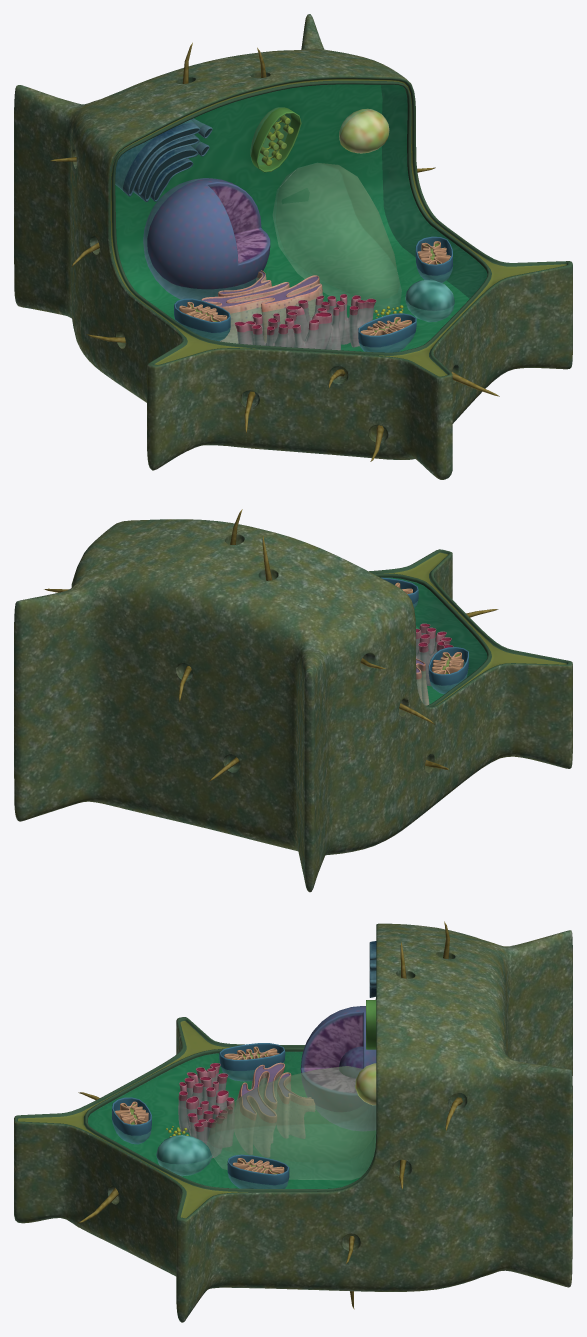
File: plant-cell.glb
3 views of the same model, one above another, from view 1: azimuth 30°, elevation 25°; view 2: azimuth 150°, elevation 25°; view 3: azimuth 270°, elevation 25° (orthographic).
Parts seen in each view (by area): view 1: cell, cytoplasm, vacuole, nucleus, mitochondria, smooth.ER, golgi.appratus, rough.ER, peroxisome, chloroplast.out, lysosome, plasmodesma (+1 smaller); view 2: cell, cytoplasm, mitochondria, plasmodesma, smooth.ER; view 3: cell, cytoplasm, vacuole, nucleus, mitochondria, rough.ER, smooth.ER, lysosome, plasmodesma, peroxisome, chloroplast.out.
Boxes of the visible parts, <box> form: cell: <box>14,14,572,479</box>; cytoplasm: <box>115,84,487,352</box>; vacuole: <box>273,163,401,313</box>; nucleus: <box>143,178,270,300</box>; mitochondria: <box>174,236,452,352</box>; smooth.ER: <box>234,294,376,350</box>; golgi.appratus: <box>115,118,212,201</box>; rough.ER: <box>201,270,323,343</box>; peroxisome: <box>339,108,389,153</box>; chloroplast.out: <box>250,107,301,172</box>; lysosome: <box>405,279,454,322</box>; plasmodesma: <box>50,42,499,461</box>; cell: <box>14,519,572,892</box>; cytoplasm: <box>384,577,487,705</box>; mitochondria: <box>381,577,468,693</box>; plasmodesma: <box>44,509,498,781</box>; smooth.ER: <box>416,623,453,686</box>; cell: <box>14,923,572,1322</box>; cytoplasm: <box>88,1051,376,1188</box>; vacuole: <box>206,1066,376,1179</box>; nucleus: <box>300,1006,376,1130</box>; mitochondria: <box>112,1043,289,1188</box>; rough.ER: <box>234,1062,314,1157</box>; smooth.ER: <box>178,1063,234,1157</box>; lysosome: <box>156,1135,212,1176</box>; plasmodesma: <box>77,921,462,1309</box>; peroxisome: <box>355,1063,376,1105</box>; chloroplast.out: <box>366,1000,376,1049</box>.
Bounding box in the file's own units: 164 × 122 × 190.
Materials: 1 (1 with a texture image).
